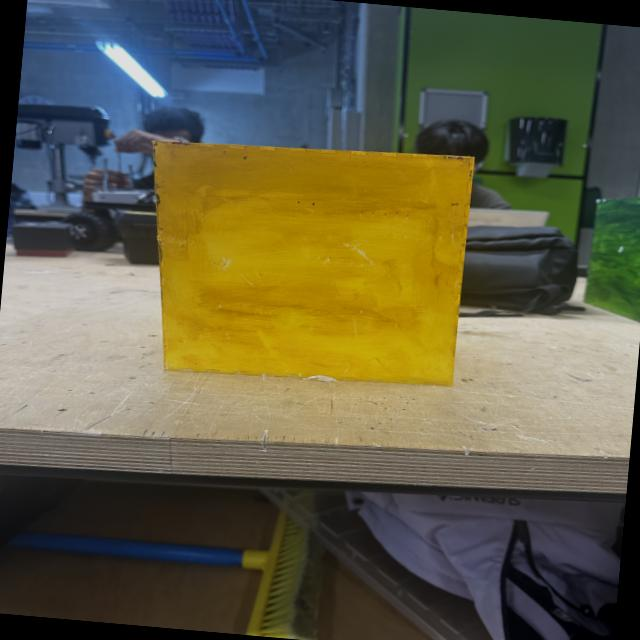yellow_bin: (130, 127, 478, 394)
